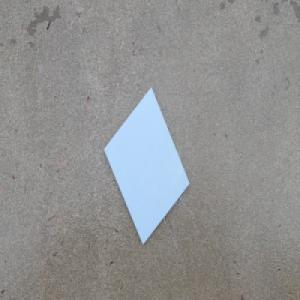PaintChip: (102, 86, 190, 246)
